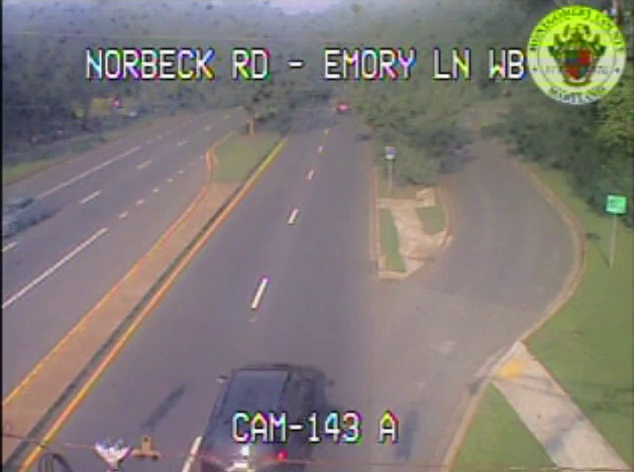car: (204, 367, 302, 472)
